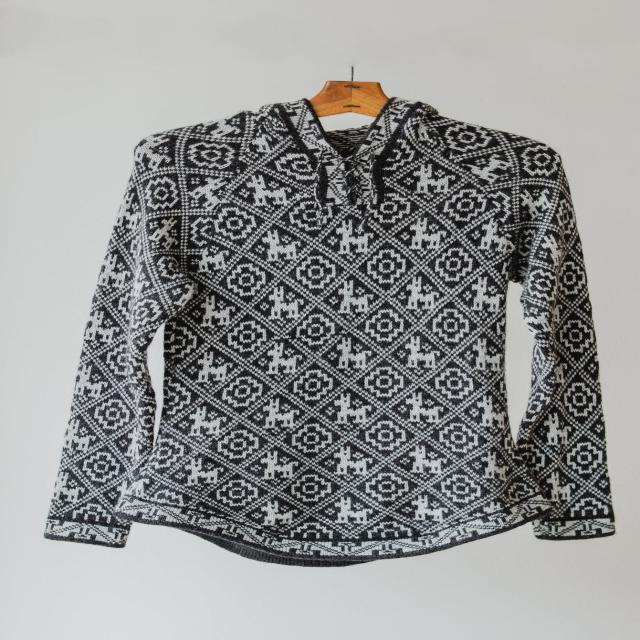Chompa: (44, 91, 616, 567)
